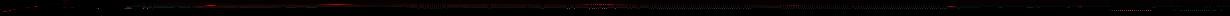Blue cone: (12, 9, 18, 10), (26, 7, 32, 8), (34, 6, 38, 7)
Yellow cone: (1077, 6, 1083, 8)
